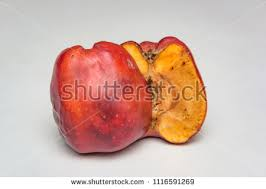damaged_apple: (114, 40, 220, 150), (53, 47, 154, 154)
